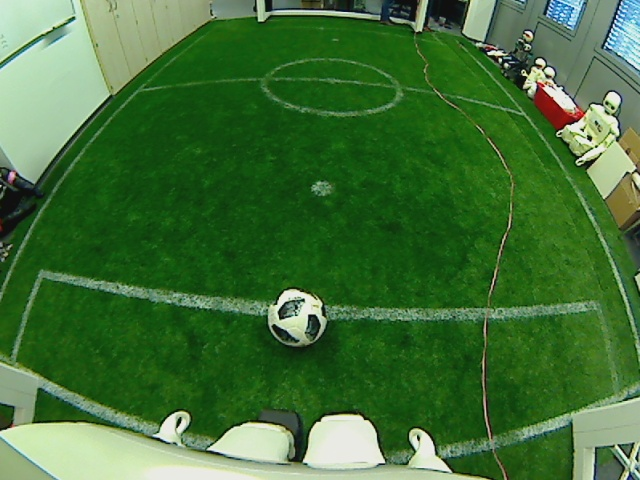ball: (267, 288, 329, 350)
